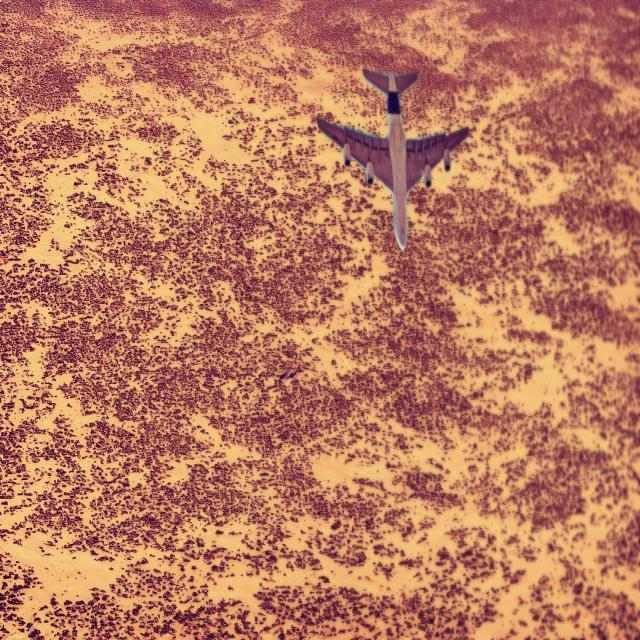airplane: (316, 66, 469, 252)
